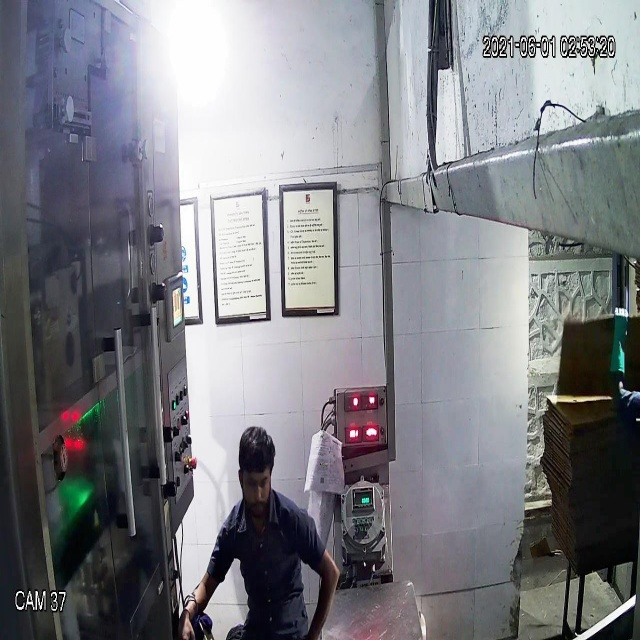Sin_gafas: (239, 463, 274, 498)
